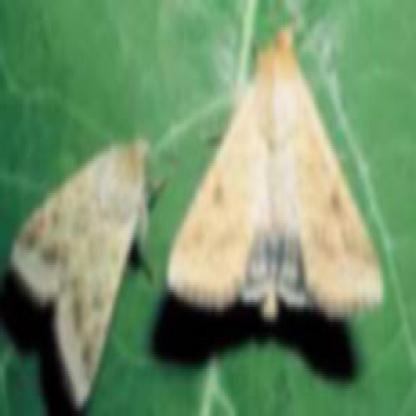helicoverpa: (166, 27, 385, 321), (10, 136, 152, 407)
